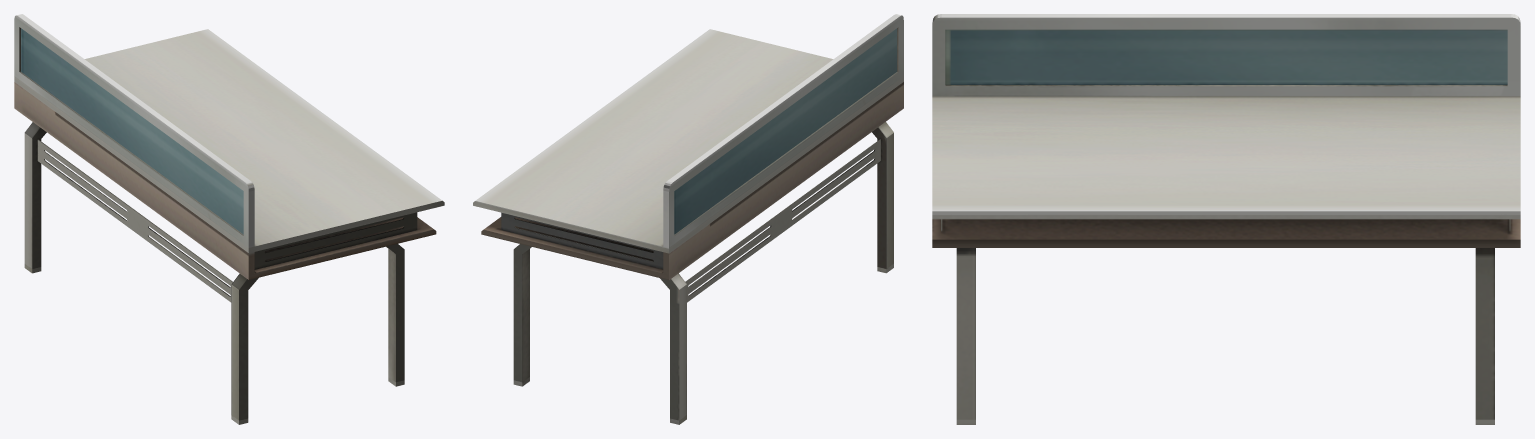
The model's file is 3Dguoji_HGDT_BGZ02_ljw.FBX.
3 views of the same model, side by side, from view 1: azimuth 30°, elevation 25°; view 2: azimuth 150°, elevation 25°; view 3: azimuth 270°, elevation 25° (orthographic). The views are drawn at different scales.
Visible parts, largest first — view 1: 3Dguoji_HGDT_BGZ02_ljw; view 2: 3Dguoji_HGDT_BGZ02_ljw; view 3: 3Dguoji_HGDT_BGZ02_ljw.
Boxes of the visible parts, x1,y1,x2,y2 form: 3Dguoji_HGDT_BGZ02_ljw: (14, 14, 444, 424); 3Dguoji_HGDT_BGZ02_ljw: (473, 14, 903, 424); 3Dguoji_HGDT_BGZ02_ljw: (932, 14, 1520, 424).
Bounding box in the file's own units: 0.9174 × 1.11 × 1.9.
